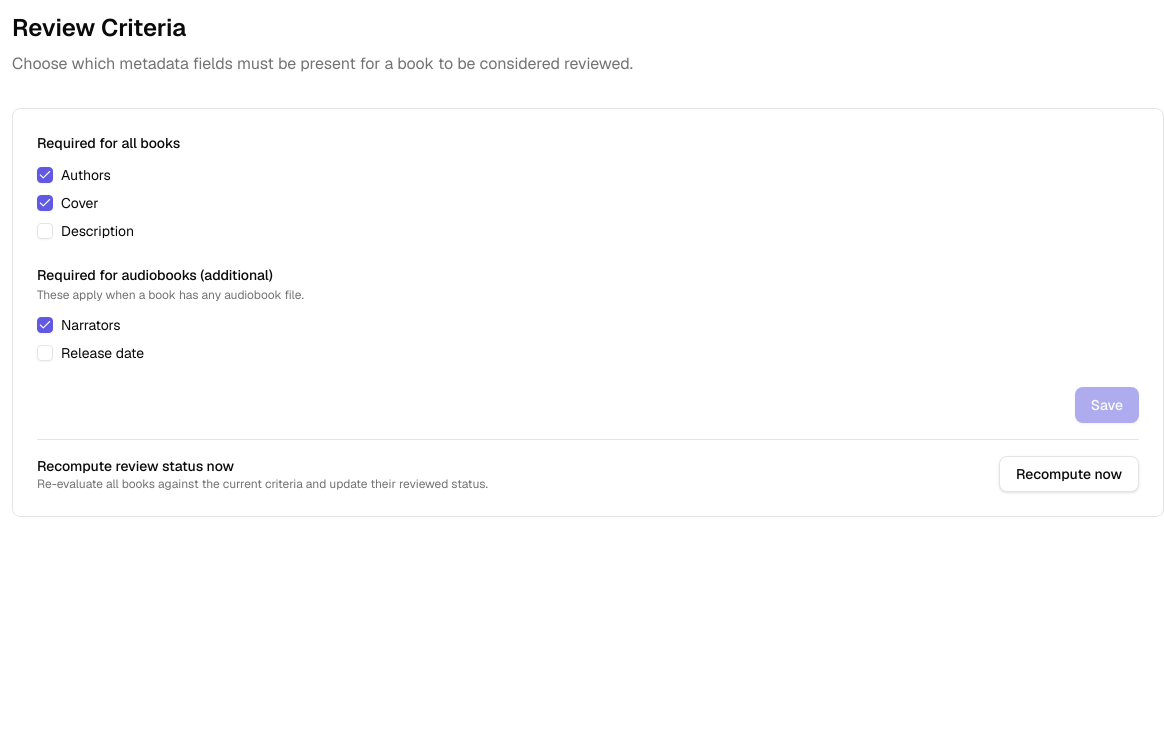
Test case: AdminReviewCriteria › Save button enables after toggling a checkbox
The width and height of the screenshot is (1164, 732).
Step 1. Click the checkbox named "Description" next to "Description" → click(45, 231), box 37,223 -> 53,239
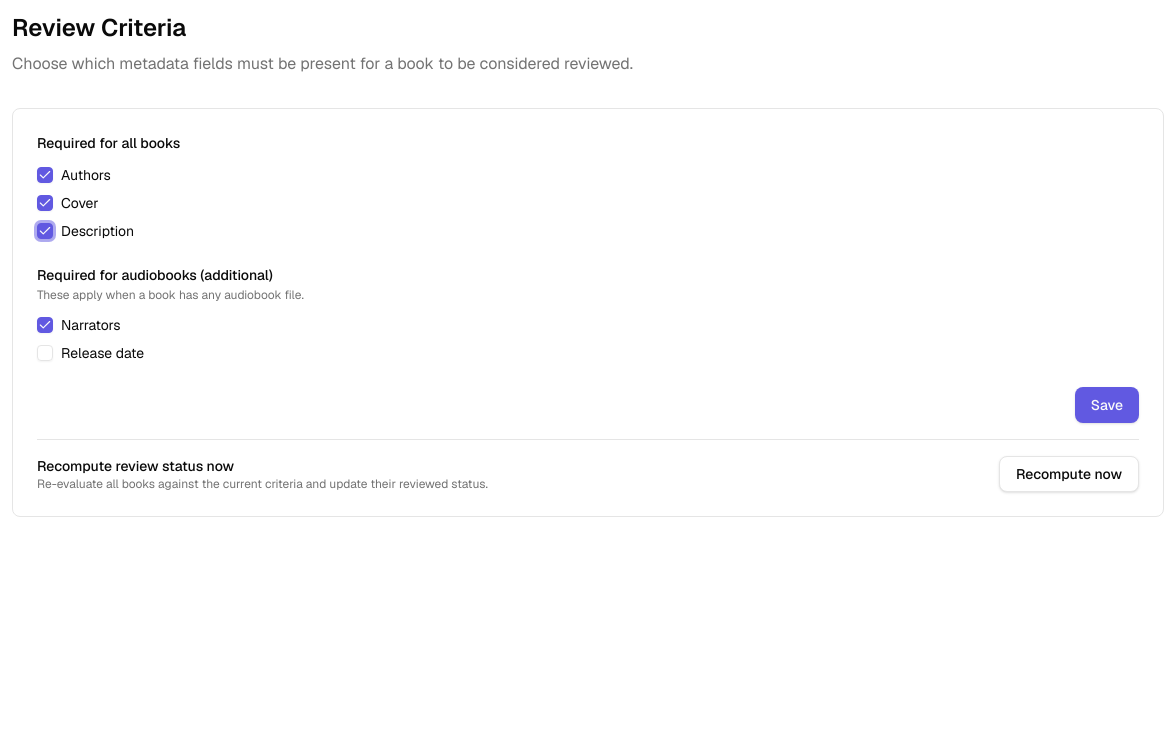
Expected: the button "Save" is enabled, 1075,387 -> 1139,423
